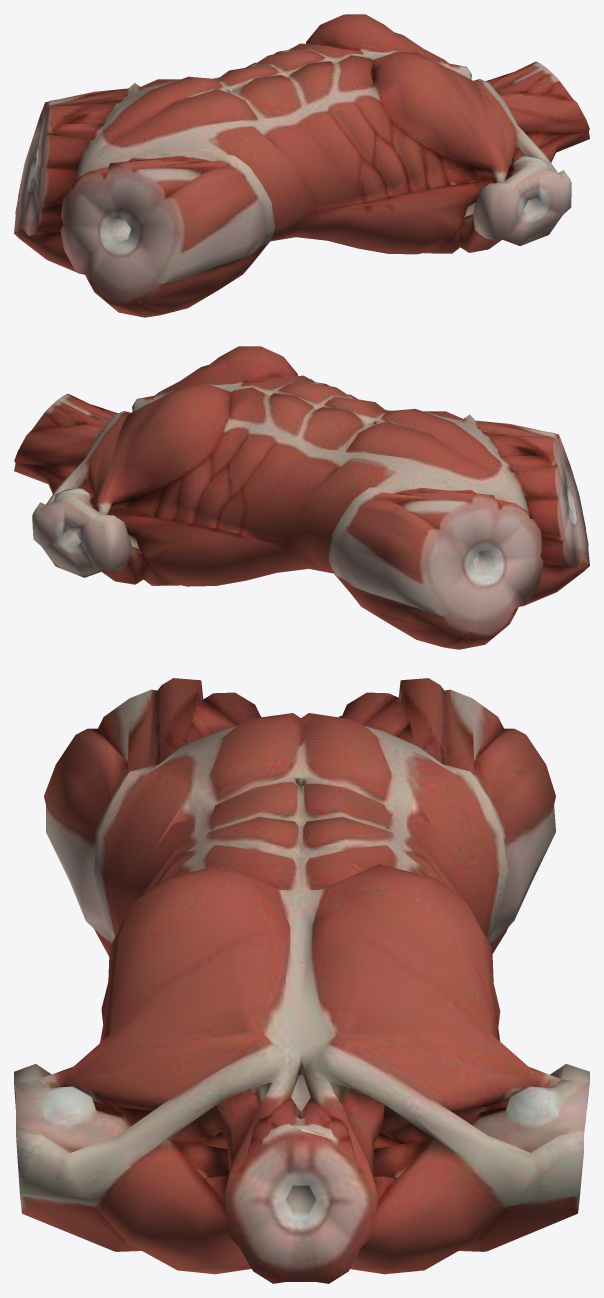
The model's file is torso-muscle.glb.
The picture shows the model from 3 angles, top to bottom: view 1: azimuth 30°, elevation 25°; view 2: azimuth 150°, elevation 25°; view 3: azimuth 270°, elevation 25°; orthographic projection. The views are drawn at different scales.
Parts seen in each view (by area): view 1: tripo_node_d691305a-3d0d-4fce-80c4-ebf81; view 2: tripo_node_d691305a-3d0d-4fce-80c4-ebf81; view 3: tripo_node_d691305a-3d0d-4fce-80c4-ebf81.
Boxes of the visible parts, bbox=[...] form: tripo_node_d691305a-3d0d-4fce-80c4-ebf81: bbox=[14, 14, 589, 317]; tripo_node_d691305a-3d0d-4fce-80c4-ebf81: bbox=[14, 346, 589, 649]; tripo_node_d691305a-3d0d-4fce-80c4-ebf81: bbox=[14, 678, 589, 1283].
Bounding box in the file's own units: 0.1134 × 0.0415 × 0.0635.
Materials: 1 (1 with a texture image).
